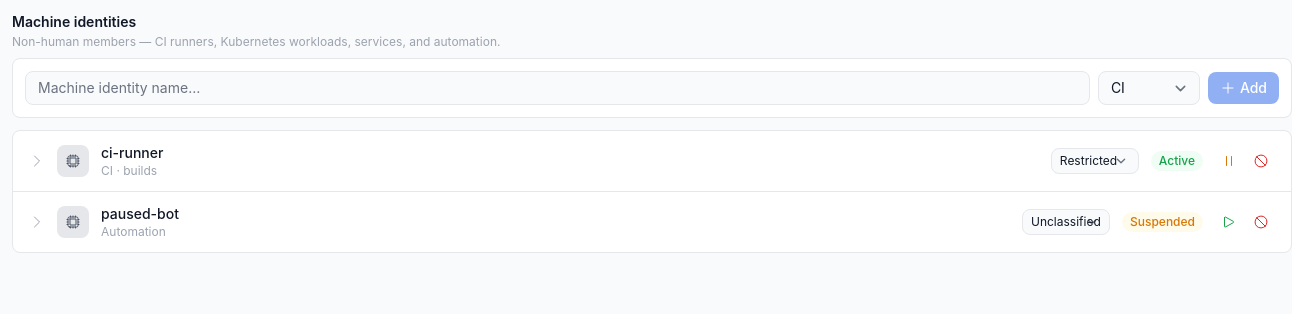
MachineIdentitiesSection › shows the error.error field when reclassifying fails
Select "Confidential" in the dropdown named "Classification for ci-runner" at (1095, 161), box [1051,148,1139,174]
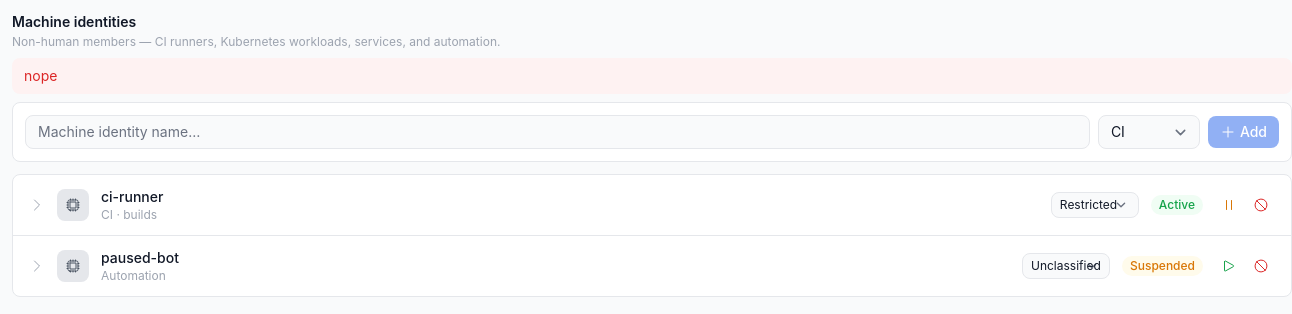
Expected: the text "nope" is shown, [12,58,1291,94]
